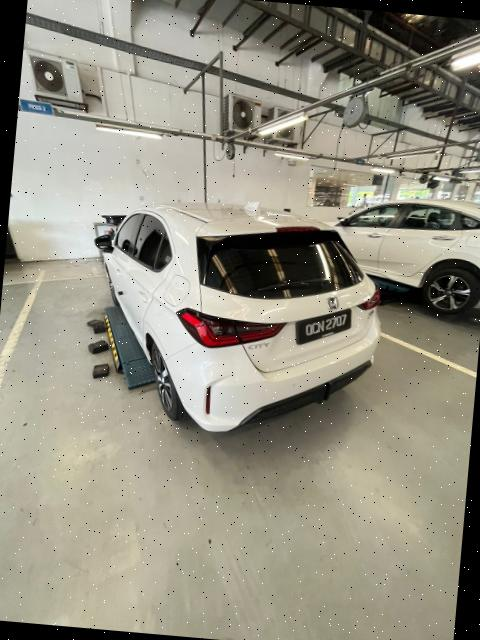License_Plate: (296, 300, 354, 347)
car: (77, 181, 394, 454)
